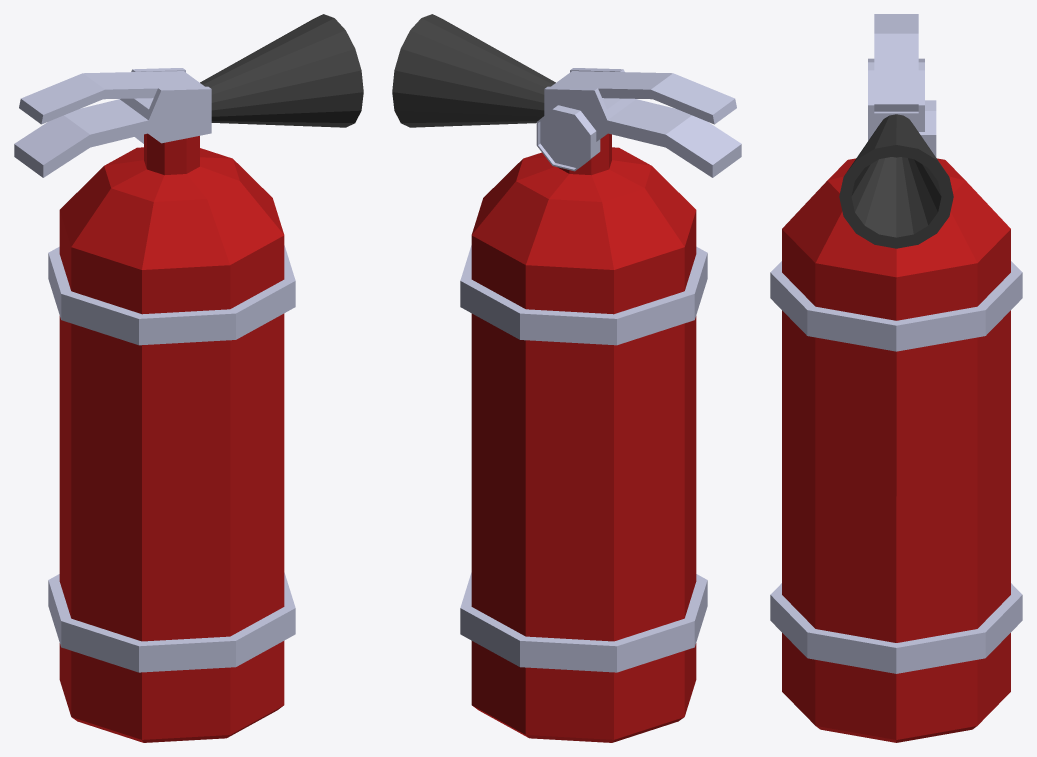
The model's file is FireExt.fbx.
3 renders of one model, left to right at view 1: azimuth 30°, elevation 25°; view 2: azimuth 150°, elevation 25°; view 3: azimuth 270°, elevation 25°, orthographic.
Parts seen in each view (by area): view 1: Body, Top, Cone, HandleBottom, BandBottom, BandTop, HandleTop, Neck; view 2: Body, Top, Cone, BandBottom, BandTop, HandleBottom, HandleTop, Gauge, Neck; view 3: Body, Top, Cone, BandBottom, BandTop, HandleTop, HandleBottom, Gauge.
Boxes of the visible parts, x1,y1,x2,y2 form: Body: (59, 313, 284, 742); Top: (59, 147, 284, 314); Cone: (200, 14, 363, 127); HandleBottom: (14, 68, 211, 177); BandBottom: (48, 572, 295, 672); BandTop: (48, 245, 295, 345); HandleTop: (19, 71, 204, 124); Neck: (144, 133, 199, 175); Body: (471, 313, 696, 742); Top: (471, 147, 696, 314); Cone: (392, 14, 555, 127); BandBottom: (460, 572, 707, 672); BandTop: (460, 245, 707, 345); HandleBottom: (544, 68, 741, 177); HandleTop: (551, 71, 736, 124); Gauge: (536, 105, 600, 171); Neck: (557, 133, 611, 175); Body: (782, 310, 1010, 742); Top: (782, 158, 1010, 320); Cone: (839, 114, 953, 248); BandBottom: (770, 583, 1022, 673); BandTop: (770, 261, 1022, 351); HandleTop: (874, 14, 918, 111); HandleBottom: (868, 58, 924, 140); Gauge: (919, 100, 936, 157).
Size of the model in its own units: 304 by 607 by 220.
